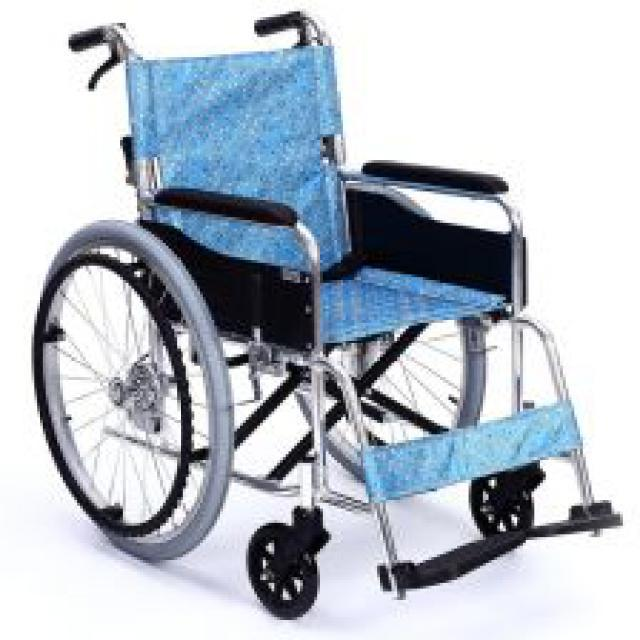wheelchair: (29, 8, 628, 620)
